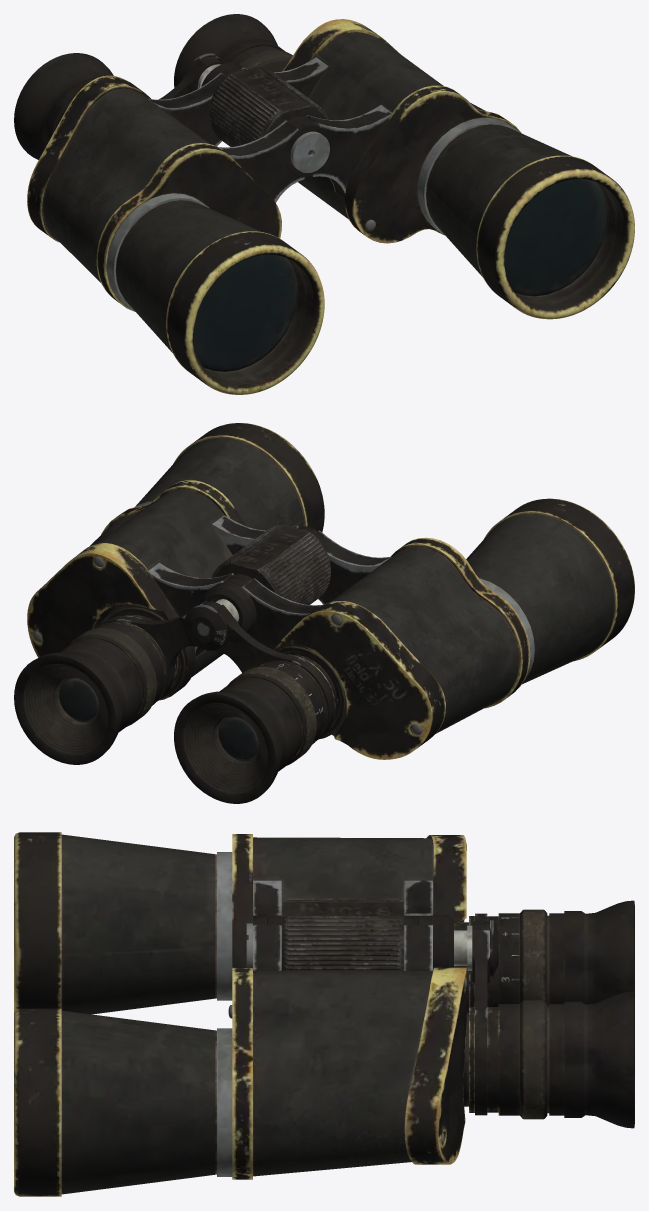
File: binoculars.glb
3 views of the same model, one above another, from view 1: azimuth 30°, elevation 25°; view 2: azimuth 150°, elevation 25°; view 3: azimuth 270°, elevation 25° (orthographic). The views are drawn at different scales.
Visible parts, largest first — view 1: vintage_binocular_right_prism, vintage_binocular_left_prism, vintage_binocular_right_lens, vintage_binocular_focus, vintage_binocular_left_lens, vintage_binocular_middle; view 2: vintage_binocular_right_prism, vintage_binocular_left_prism, vintage_binocular_left_lens, vintage_binocular_right_lens, vintage_binocular_focus, vintage_binocular_diopter, vintage_binocular_eye_relief, vintage_binocular_middle; view 3: vintage_binocular_left_prism, vintage_binocular_right_prism, vintage_binocular_left_lens, vintage_binocular_right_lens, vintage_binocular_focus, vintage_binocular_diopter, vintage_binocular_middle, vintage_binocular_eye_relief.
Part boxes in pixels (x1,y1,x2,y2): vintage_binocular_right_prism: (27,73,324,394); vintage_binocular_left_prism: (223,19,634,319); vintage_binocular_right_lens: (14,53,224,159); vintage_binocular_focus: (209,67,328,146); vintage_binocular_left_lens: (174,14,292,87); vintage_binocular_middle: (201,63,329,172); vintage_binocular_right_prism: (228,498,634,759); vintage_binocular_left_prism: (27,423,324,700); vintage_binocular_left_lens: (14,600,217,764); vintage_binocular_right_lens: (174,601,336,803); vintage_binocular_focus: (211,525,330,604); vintage_binocular_diopter: (227,661,324,765); vintage_binocular_eye_relief: (184,599,239,650); vintage_binocular_middle: (200,582,256,633); vintage_binocular_left_prism: (14,915,466,1196); vintage_binocular_right_prism: (14,832,466,1018); vintage_binocular_left_lens: (463,923,634,1128); vintage_binocular_right_lens: (456,900,634,1012); vintage_binocular_focus: (281,898,404,970); vintage_binocular_diopter: (498,909,547,1003); vintage_binocular_middle: (246,914,453,970); vintage_binocular_eye_relief: (454,920,498,976).
Bounding box in the file's own units: 0.194 × 0.0684 × 0.1992.
Materials: 1 (1 with a texture image).
